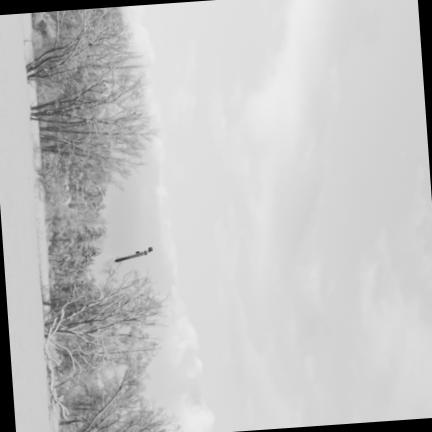Shahed: (114, 247, 151, 261)
